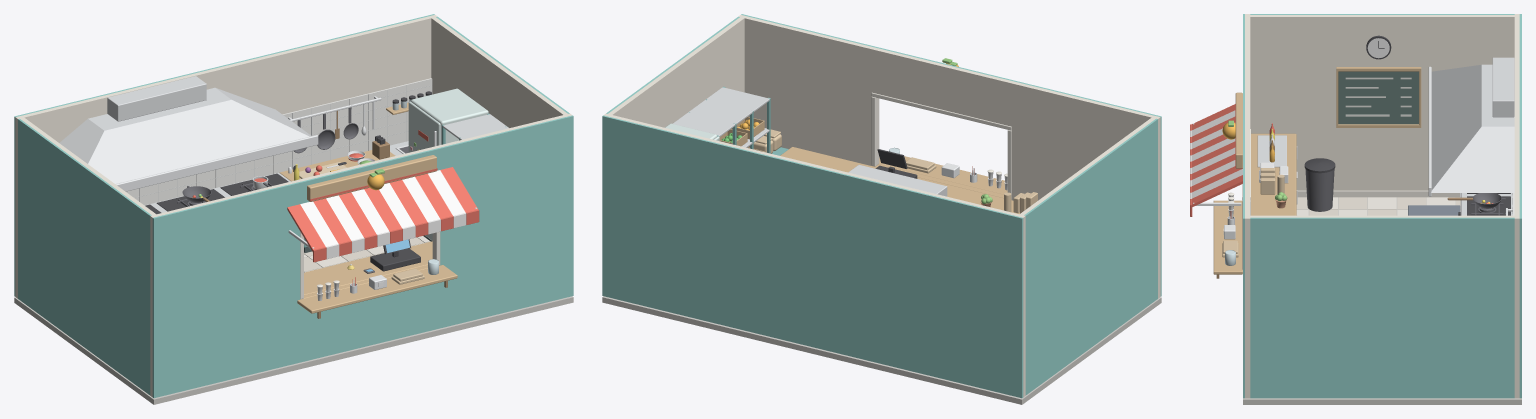
File: 1011claude.fbx
3 renders of one model, left to right at view 1: azimuth 30°, elevation 25°; view 2: azimuth 150°, elevation 25°; view 3: azimuth 270°, elevation 25°, orthographic.
Visible parts, largest first — view 1: Wall_Front_L_Out, Wall_Left_Out, Wall_Front_R_Out, Wall_Back_In, Hood_Body, Backsplash, Wall_Front_Below_Out, Wall_Right_In, Floor_Base, Hood_Duct, Hood_Lip, Front_Cab_Top (+24 smaller); view 2: Wall_Back_Out, Wall_Left_Out, Wall_Front_R_In, Wall_Front_L_In, Wall_Front_Above_In, Wall_Right_In, Floor_Base, Shelf_Board_4, Wall_Back_In, Front_Cab_Top, Hood_Duct, Window_Ledge (+4 smaller); view 3: Wall_Right_Out, Wall_Left_In, Hood_Body, Menu_Board, Wall_Back_In, Front_Cab_Top, Floor_Base, Window_Ledge, Wall_Front_R_In, Hood_Duct, Wall_Back_Out, Trash_Bin (+27 smaller).
Part boxes in pixels (x1,y1,x2,y2): Wall_Front_L_Out: [152, 182, 300, 398]; Wall_Left_Out: [18, 118, 151, 395]; Wall_Front_R_Out: [439, 115, 573, 328]; Wall_Back_In: [15, 15, 437, 298]; Hood_Body: [59, 87, 311, 183]; Backsplash: [126, 78, 432, 205]; Wall_Front_Below_Out: [300, 282, 439, 362]; Wall_Right_In: [431, 17, 567, 127]; Floor_Base: [14, 296, 573, 404]; Hood_Duct: [107, 76, 206, 121]; Hood_Lip: [115, 135, 318, 191]; Front_Cab_Top: [304, 241, 432, 294]; Wall_Back_Out: [602, 115, 1023, 398]; Wall_Left_Out: [1024, 118, 1157, 395]; Wall_Front_R_In: [738, 15, 873, 165]; Wall_Front_L_In: [1011, 81, 1160, 298]; Wall_Front_Above_In: [871, 47, 1013, 126]; Wall_Right_In: [608, 17, 744, 127]; Floor_Base: [602, 296, 1161, 404]; Shelf_Board_4: [673, 87, 769, 137]; Wall_Back_In: [604, 113, 1025, 396]; Front_Cab_Top: [780, 147, 1019, 214]; Hood_Duct: [848, 165, 947, 196]; Window_Ledge: [879, 156, 1007, 194]; Wall_Right_Out: [1250, 217, 1514, 398]; Wall_Left_In: [1250, 15, 1514, 190]; Hood_Body: [1431, 64, 1514, 192]; Menu_Board: [1338, 71, 1418, 124]; Wall_Back_In: [1514, 14, 1519, 398]; Front_Cab_Top: [1251, 133, 1296, 215]; Floor_Base: [1243, 197, 1521, 404]; Window_Ledge: [1213, 200, 1242, 274]; Wall_Front_R_In: [1245, 153, 1250, 398]; Hood_Duct: [1492, 57, 1514, 117]; Wall_Back_Out: [1519, 14, 1521, 398]; Trash_Bin: [1305, 169, 1334, 211].
Bounding box in the file's own units: 6.6 × 2.8 × 4.52.
